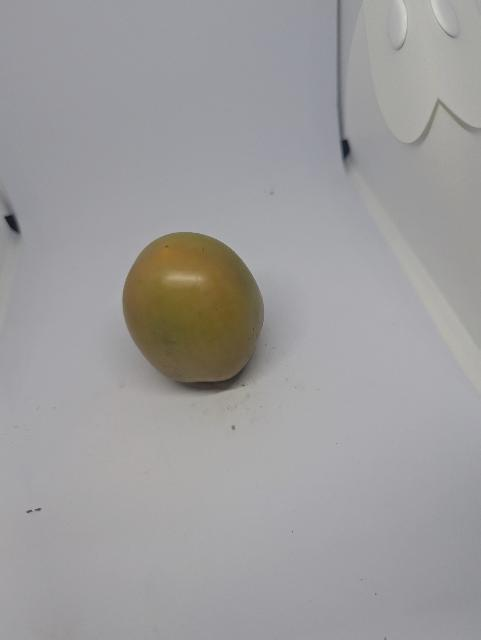breaker: (123, 232, 264, 382)
